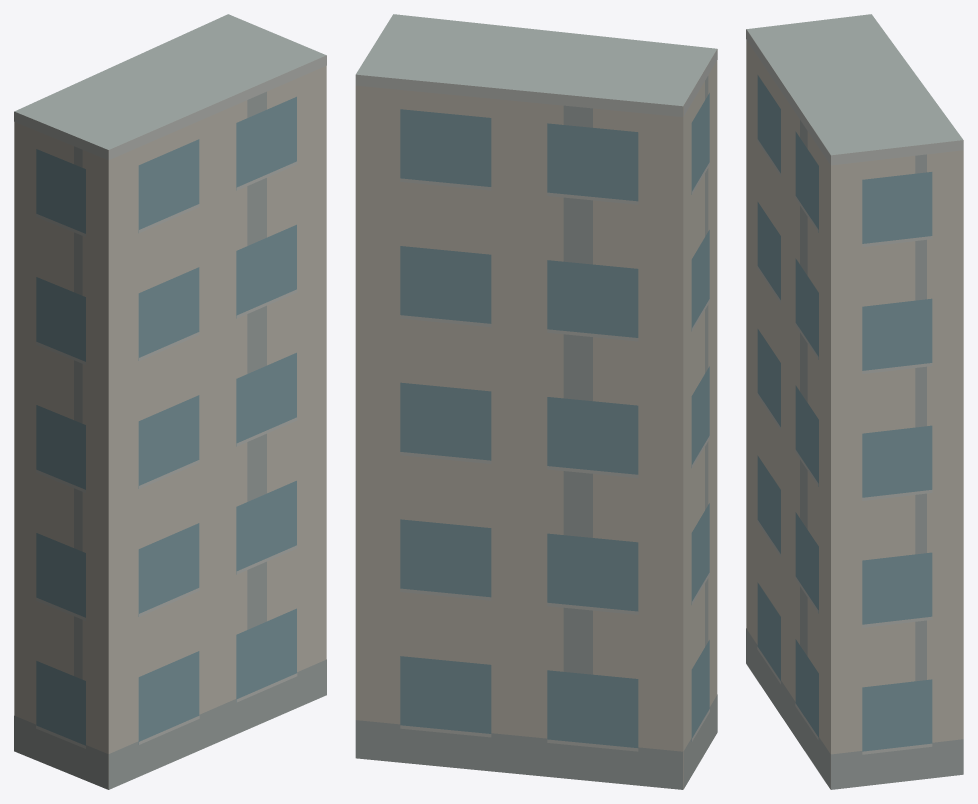
The model's file is survey-upis-32639916.glb.
The picture shows the model from 3 angles, left to right: view 1: azimuth 30°, elevation 25°; view 2: azimuth 150°, elevation 25°; view 3: azimuth 270°, elevation 25°; orthographic projection. The views are drawn at different scales.
Visible parts, largest first — view 1: survey-upis-32639916.tmp; view 2: survey-upis-32639916.tmp; view 3: survey-upis-32639916.tmp.
Boxes of the visible parts, x1,y1,x2,y2 form: survey-upis-32639916.tmp: (14, 14, 326, 789); survey-upis-32639916.tmp: (355, 14, 717, 789); survey-upis-32639916.tmp: (746, 14, 963, 789).
Bounding box in the file's own units: 7.29 × 15.25 × 4.74.
